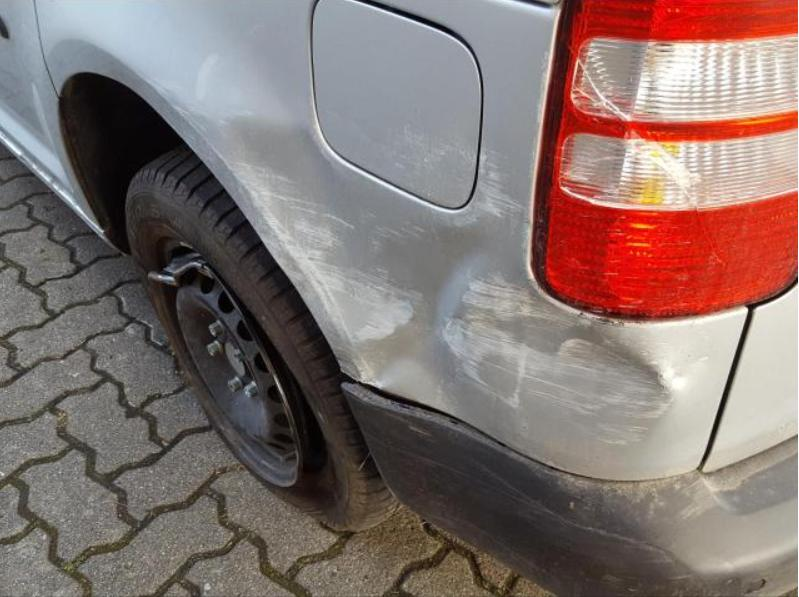Back-bumper: (345, 381, 798, 596)
Back-door: (1, 0, 106, 240)
Back-wheel: (127, 149, 403, 531)
Quarter-panel: (34, 0, 747, 480)
Tail-light: (528, 0, 798, 319)
Trunk: (701, 286, 798, 472)
